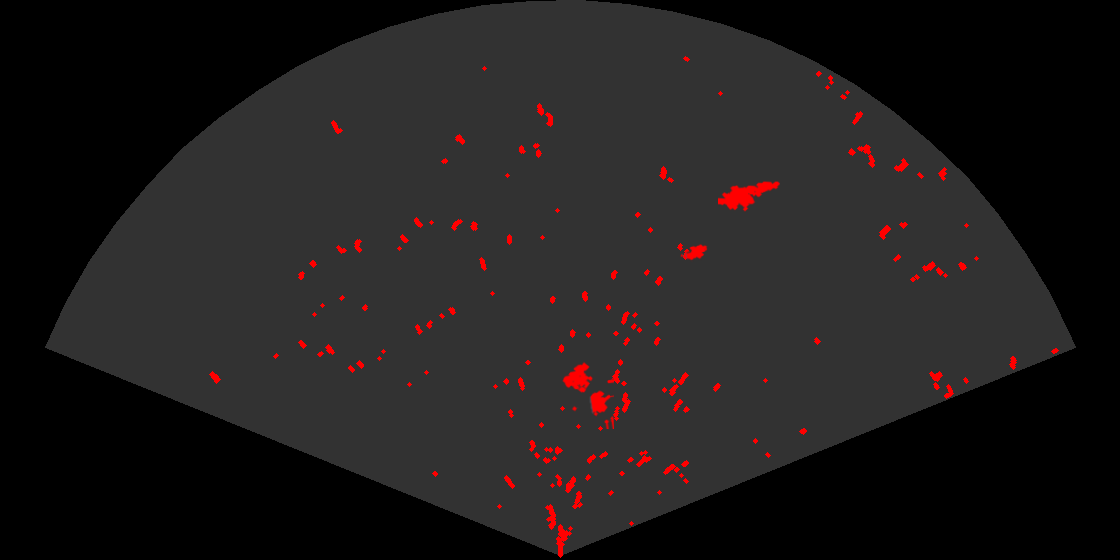AUV: (679, 243, 709, 262)
cage: (561, 360, 614, 429)
frogman: (718, 180, 780, 213)
